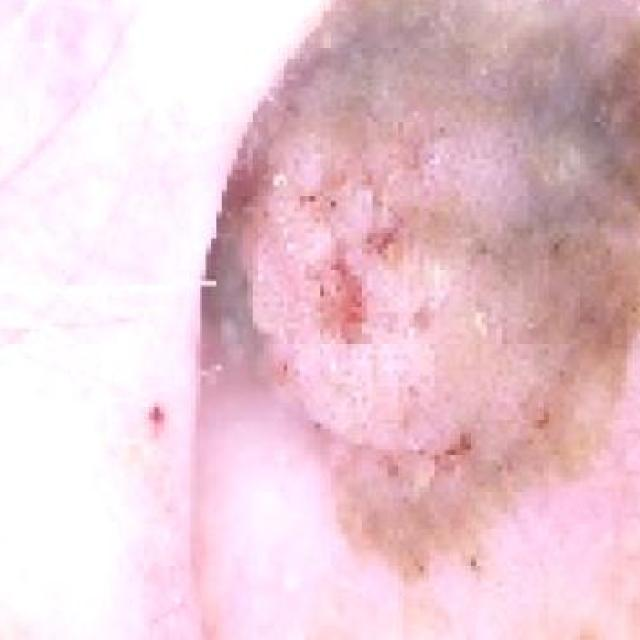BKL: (216, 0, 639, 549)
